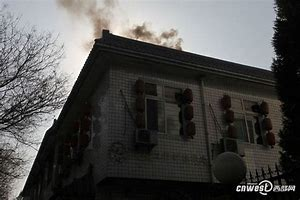smoke: (66, 5, 191, 46)
